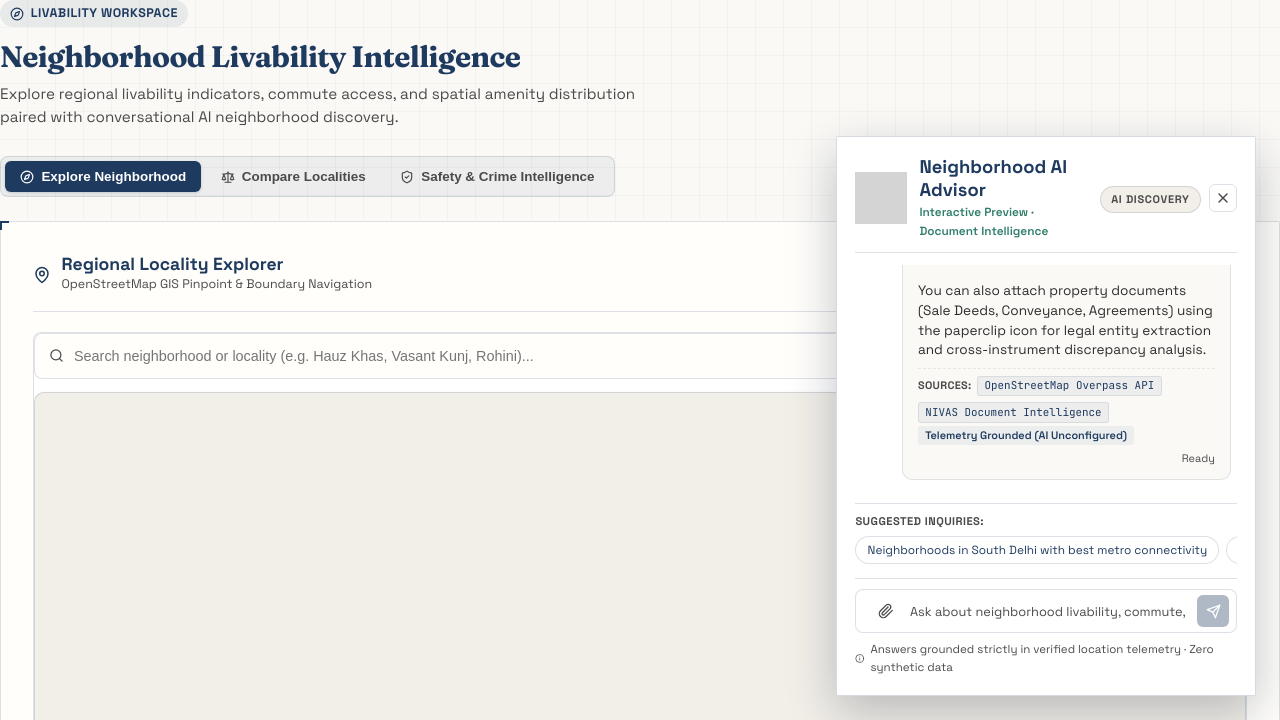
Scenario: LivabilityWorkspace Shell & State Isolation › allows clicking a suggested prompt to populate the chat input
(page scrolled)
Click the button "Neighborhoods in South Delhi with best metro connectivity" at (1037, 550), box [855,536,1220,564]
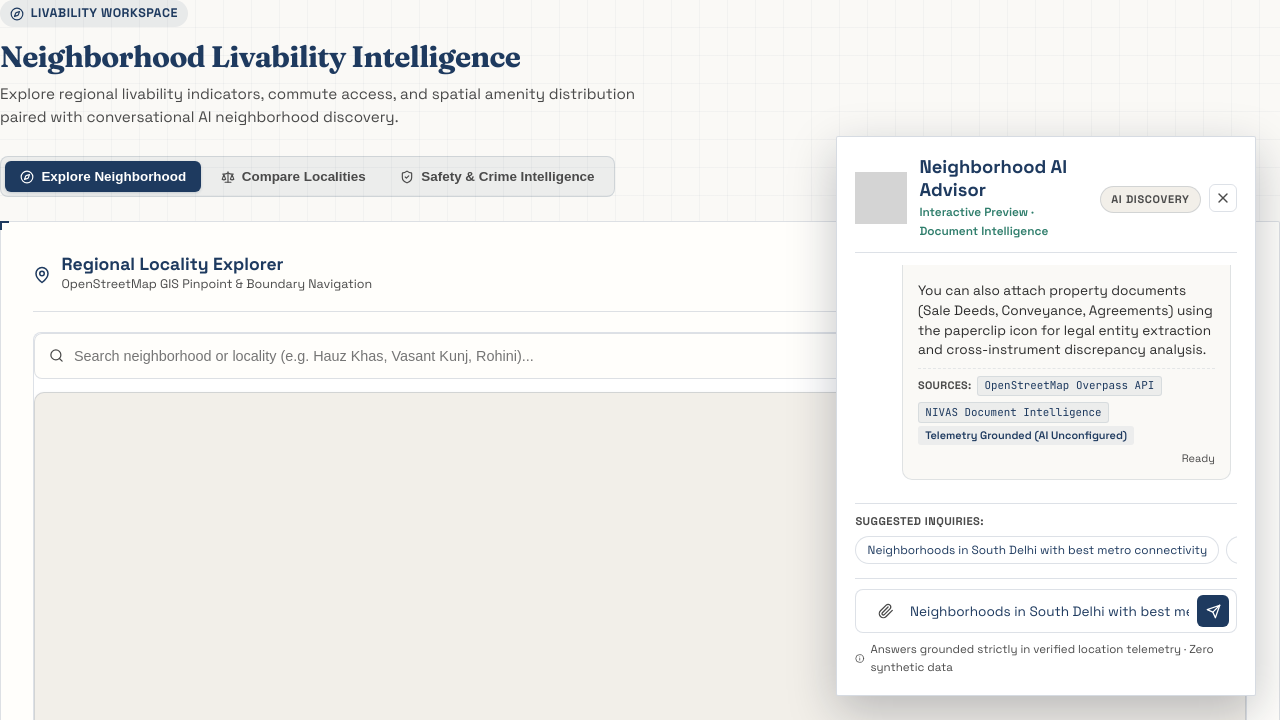
Check: the field with placeholder "Ask about neighborhood livability, commute, schools..." holds "Neighborhoods in South Delhi with best metro connectivity", box [910,596,1189,626]
